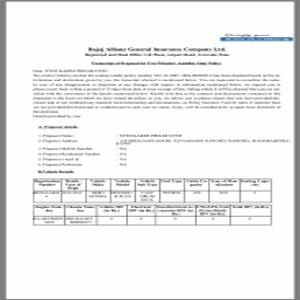table: (34, 178, 271, 204), (33, 205, 272, 226)
text: (36, 123, 290, 175), (32, 68, 282, 118), (83, 44, 234, 58), (91, 59, 227, 68)
